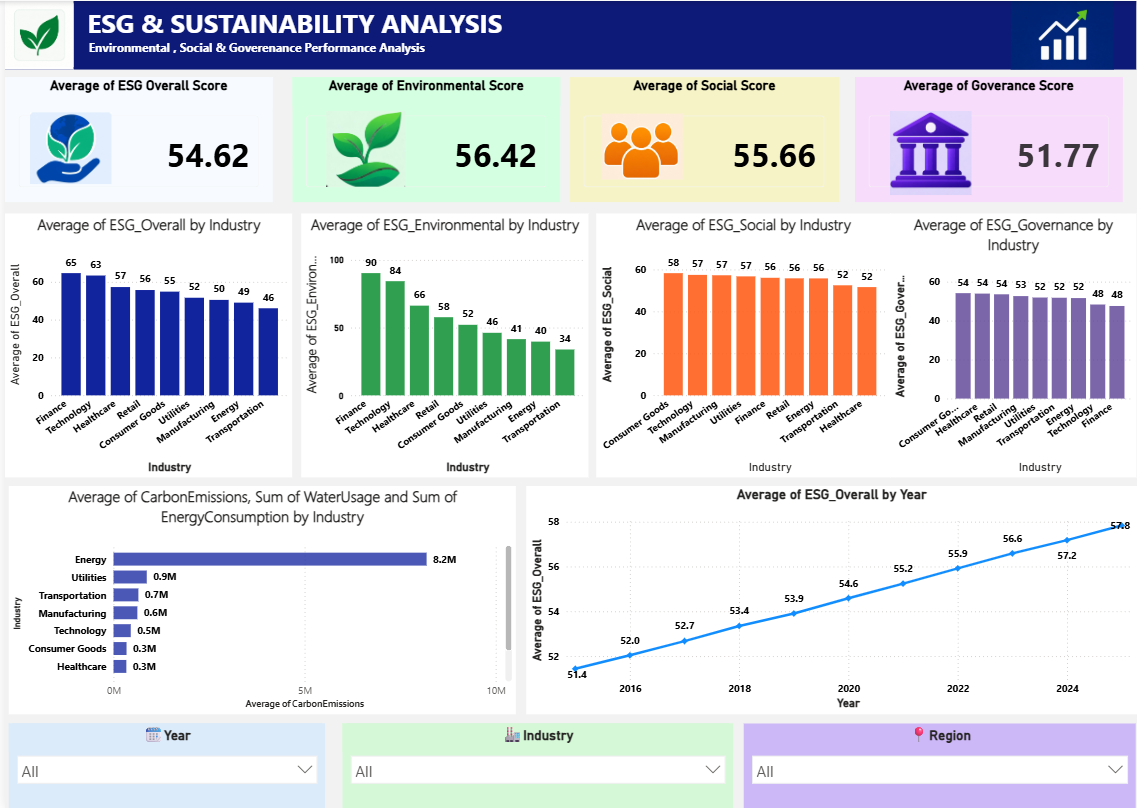

What the dashboard file says about the page in this screenshot:
{"tool":"powerbi","page":{"name":"ESG & Sustainability Analysis","canvas":[1400,1000],"ordinal":1},"visuals":[{"type":"textbox","box":[0,0,1399.2,84.5],"z":0},{"type":"cardVisual","title":"     Average of ESG Overall Score           ","fields":{"Data":["Avg(ESG_Data.ESG_Overall)"]},"box":[0,94.3,340.1,154.6],"z":1000},{"type":"cardVisual","title":"Average of Environmental Score","fields":{"Data":["Avg(ESG_Data.ESG_Environmental)"]},"box":[355.5,95,331,154],"z":2000},{"type":"cardVisual","title":"Average of Social Score","fields":{"Data":["Avg(ESG_Data.ESG_Social)"]},"box":[699.5,95,332.5,154],"z":3000},{"type":"cardVisual","title":"Average of Goverance Score","fields":{"Data":["Avg(ESG_Data.ESG_Governance)"]},"box":[1050.7,95,331,154],"z":4000},{"type":"clusteredColumnChart","fields":{"Category":["ESG_Data.Industry"],"Y":["Avg(ESG_Data.ESG_Overall)"]},"box":[0,263.4,355.5,326.7],"z":5000},{"type":"clusteredColumnChart","fields":{"Category":["ESG_Data.Industry"],"Y":["Avg(ESG_Data.ESG_Environmental)"]},"box":[367,263.4,355.5,326.7],"z":6000},{"type":"clusteredColumnChart","fields":{"Category":["ESG_Data.Industry"],"Y":["Avg(ESG_Data.ESG_Social)"]},"box":[731.1,263.4,364.1,326.7],"z":7000},{"type":"clusteredColumnChart","fields":{"Category":["ESG_Data.Industry"],"Y":["Avg(ESG_Data.ESG_Governance)"]},"box":[1095.3,263.4,305.1,326.7],"z":8000},{"type":"clusteredBarChart","fields":{"Category":["ESG_Data.Industry"],"Y":["Avg(ESG_Data.CarbonEmissions)"]},"box":[4.3,600.2,627.5,282.1],"z":9000},{"type":"lineChart","fields":{"Category":["ESG_Data.Year"],"Y":["Avg(ESG_Data.ESG_Overall)"]},"box":[644.8,600.2,755.6,282.1],"z":10000},{"type":"slicer","title":"🗓️Year","fields":{"Values":["ESG_Data.Year"]},"box":[4.3,893.8,391.5,106.5],"z":11000},{"type":"slicer","title":"🏭Industry","fields":{"Values":["ESG_Data.Industry"]},"box":[417.4,893.8,483.6,106.5],"z":12000},{"type":"slicer","title":"📍Region","fields":{"Values":["ESG_Data.Region","ESG_Data.Region"]},"box":[913.9,893.8,485,106.5],"z":13000},{"type":"image","box":[1215.8,0,184.9,84.5],"z":14000},{"type":"image","box":[0,0,84.5,84.5],"z":15000},{"type":"image","box":[736.9,135.3,100.7,87.8],"z":16000},{"type":"image","box":[30.2,133.9,100.7,95],"z":17000},{"type":"image","box":[1095.3,135.3,100.7,103.6],"z":18000},{"type":"image","box":[395.8,135.3,100.7,93.6],"z":19000}]}

Visuals, with their boxes in screenshot pixels (x1, y1, x2, y2), scaled from the page's 1400x1000 canvas onto the 1137x808 screenshot:
textbox: left=0, top=0, right=1136, bottom=68
"     Average of ESG Overall Score           " cardVisual: left=0, top=76, right=276, bottom=201
"Average of Environmental Score" cardVisual: left=289, top=77, right=558, bottom=201
"Average of Social Score" cardVisual: left=568, top=77, right=838, bottom=201
"Average of Goverance Score" cardVisual: left=853, top=77, right=1122, bottom=201
clusteredColumnChart - ESG_Data.Industry x Avg(ESG_Data.ESG_Overall): left=0, top=213, right=289, bottom=477
clusteredColumnChart - ESG_Data.Industry x Avg(ESG_Data.ESG_Environmental): left=298, top=213, right=587, bottom=477
clusteredColumnChart - ESG_Data.Industry x Avg(ESG_Data.ESG_Social): left=594, top=213, right=889, bottom=477
clusteredColumnChart - ESG_Data.Industry x Avg(ESG_Data.ESG_Governance): left=890, top=213, right=1136, bottom=477
clusteredBarChart - ESG_Data.Industry x Avg(ESG_Data.CarbonEmissions): left=3, top=485, right=513, bottom=713
lineChart - ESG_Data.Year x Avg(ESG_Data.ESG_Overall): left=524, top=485, right=1136, bottom=713
"🗓️Year" slicer: left=3, top=722, right=321, bottom=807
"🏭Industry" slicer: left=339, top=722, right=732, bottom=807
"📍Region" slicer: left=742, top=722, right=1136, bottom=807
image: left=987, top=0, right=1136, bottom=68
image: left=0, top=0, right=69, bottom=68
image: left=598, top=109, right=680, bottom=180
image: left=25, top=108, right=106, bottom=185
image: left=890, top=109, right=971, bottom=193
image: left=321, top=109, right=403, bottom=185
